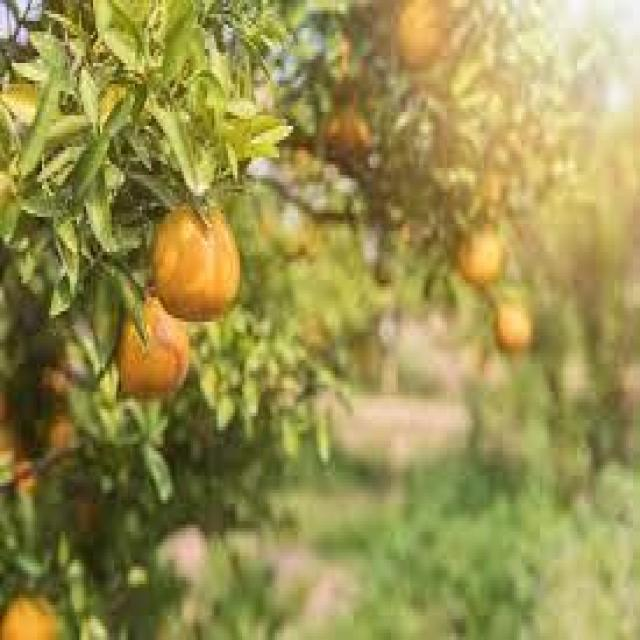fruit: (152, 202, 241, 321), (117, 296, 190, 396), (397, 0, 449, 67), (491, 283, 533, 351), (2, 591, 60, 640), (456, 226, 502, 284), (71, 491, 102, 534), (46, 412, 76, 452), (12, 457, 40, 495), (43, 363, 75, 396), (349, 118, 372, 150), (323, 117, 341, 145), (0, 387, 13, 423)
